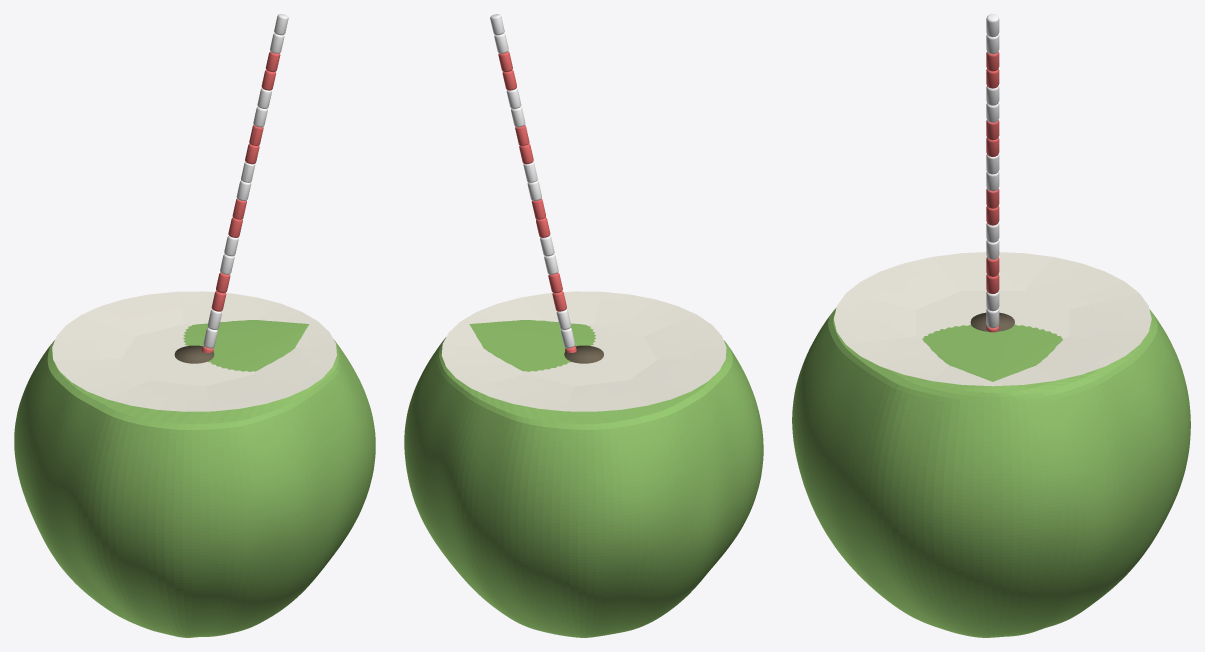
The model's file is coconut_open.glb.
3 views of the same model, side by side, from view 1: azimuth 30°, elevation 25°; view 2: azimuth 150°, elevation 25°; view 3: azimuth 270°, elevation 25° (orthographic). The views are drawn at different scales.
Parts seen in each view (by area): view 1: coconut_open; view 2: coconut_open; view 3: coconut_open.
Part boxes in pixels (x1,y1,x2,y2): coconut_open: (14, 14, 375, 637); coconut_open: (404, 14, 763, 637); coconut_open: (792, 14, 1190, 637).
Size of the model in its own units: 0.2138 by 0.3984 by 0.217.
